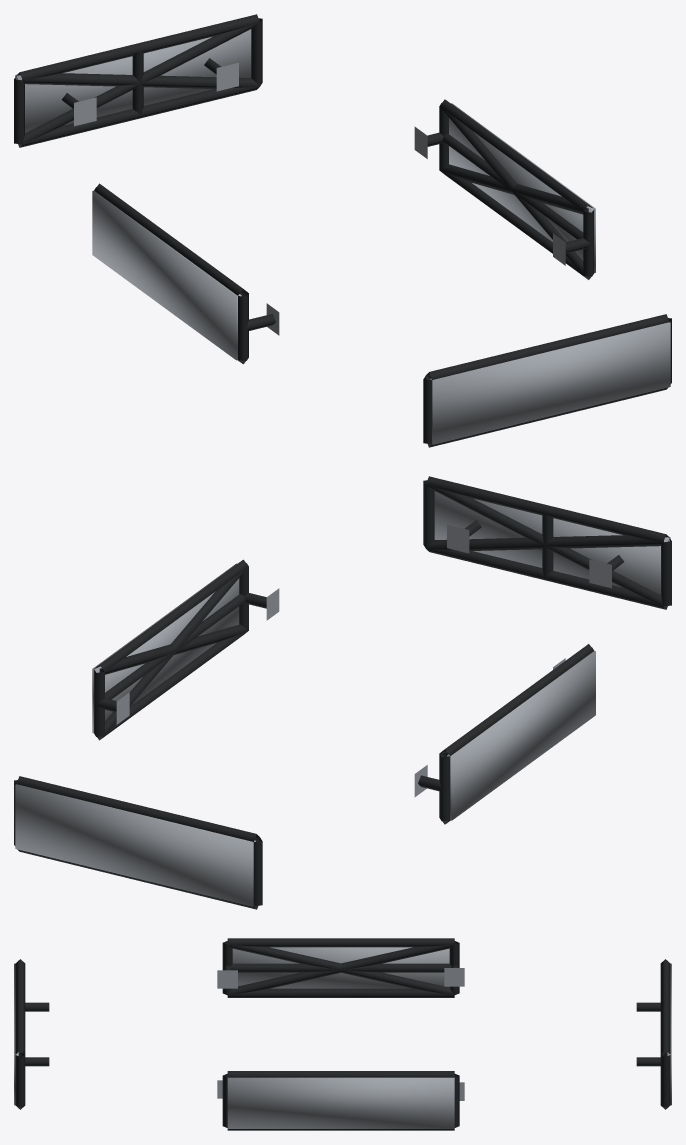
File: hozuki_seixo_protecao.glb
The picture shows the model from 3 angles, top to bottom: view 1: azimuth 30°, elevation 25°; view 2: azimuth 150°, elevation 25°; view 3: azimuth 270°, elevation 25°; orthographic projection. The views are drawn at different scales.
Visible parts, largest first — view 1: Protection_front_Level3_Details, Protection_left_Level3_Details, Protection_rear_Level1_Details, Protection_rear_Level3_Details, Protection_right_Level1_Details, Protection_rear_Level2_Details, Protection_right_Level2_Details, Protection_front_Level1_Details, Protection_right_Level3_Details, Protection_left_Level1_Details; view 2: Protection_rear_Level3_Details, Protection_left_Level3_Details, Protection_front_Level1_Details, Protection_front_Level3_Details, Protection_right_Level1_Details, Protection_front_Level2_Details, Protection_right_Level2_Details, Protection_rear_Level1_Details, Protection_right_Level3_Details, Protection_left_Level1_Details; view 3: Protection_right_Level3_Details, Protection_left_Level1_Details, Protection_left_Level2_Details, Protection_left_Level3_Details, Protection_right_Level1_Details, Protection_rear_Level1_Details, Protection_front_Level1_Details.
Part boxes in pixels (left/top/right/bottom): Protection_front_Level3_Details: left=430, top=322, right=670, bottom=444; Protection_left_Level3_Details: left=92, top=190, right=241, bottom=360; Protection_rear_Level1_Details: left=14, top=14, right=262, bottom=147; Protection_rear_Level3_Details: left=15, top=29, right=251, bottom=132; Protection_right_Level1_Details: left=414, top=99, right=594, bottom=279; Protection_rear_Level2_Details: left=16, top=22, right=259, bottom=146; Protection_right_Level2_Details: left=439, top=107, right=593, bottom=279; Protection_front_Level1_Details: left=423, top=314, right=671, bottom=447; Protection_right_Level3_Details: left=449, top=103, right=595, bottom=272; Protection_left_Level1_Details: left=94, top=183, right=279, bottom=364; Protection_rear_Level3_Details: left=15, top=784, right=255, bottom=906; Protection_left_Level3_Details: left=447, top=651, right=595, bottom=820; Protection_front_Level1_Details: left=423, top=476, right=671, bottom=609; Protection_front_Level3_Details: left=434, top=491, right=670, bottom=594; Protection_right_Level1_Details: left=94, top=559, right=279, bottom=740; Protection_front_Level2_Details: left=426, top=484, right=669, bottom=608; Protection_right_Level2_Details: left=95, top=567, right=248, bottom=739; Protection_rear_Level1_Details: left=14, top=776, right=262, bottom=909; Protection_right_Level3_Details: left=92, top=563, right=239, bottom=733; Protection_left_Level1_Details: left=414, top=644, right=594, bottom=824; Protection_right_Level3_Details: left=227, top=1077, right=454, bottom=1128; Protection_left_Level1_Details: left=217, top=938, right=464, bottom=997; Protection_left_Level2_Details: left=227, top=942, right=455, bottom=995; Protection_left_Level3_Details: left=232, top=947, right=449, bottom=988; Protection_right_Level1_Details: left=217, top=1071, right=464, bottom=1130; Protection_rear_Level1_Details: left=636, top=959, right=670, bottom=1109; Protection_front_Level1_Details: left=15, top=959, right=49, bottom=1109.
Size of the model in its own units: 1.76 by 0.354 by 3.54.
1 material, 1 textured.
